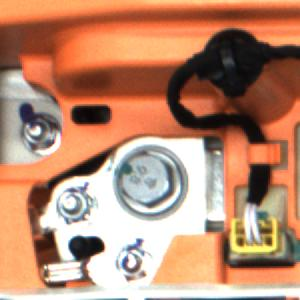nut_b: (110, 142, 193, 222)
screw_s: (51, 181, 96, 228), (113, 243, 159, 286), (14, 114, 59, 150)
